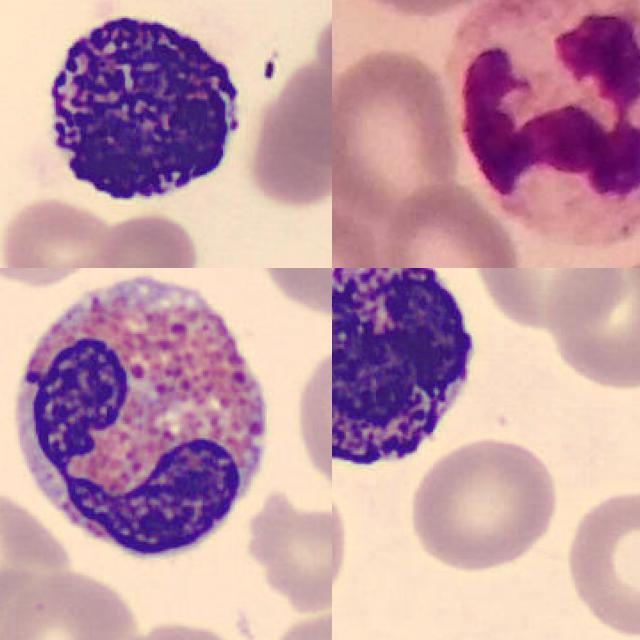Basophil: (18, 0, 255, 215), (332, 268, 486, 481)
Eosinophil: (0, 268, 288, 577)
Neutrophil: (452, 0, 640, 244)
RBC: (405, 432, 563, 575), (242, 46, 332, 211), (561, 485, 640, 640), (543, 268, 640, 393), (466, 268, 630, 335), (242, 489, 332, 610), (0, 565, 144, 640), (0, 480, 76, 614), (0, 194, 114, 268), (286, 335, 332, 510), (96, 210, 201, 268), (109, 616, 267, 640), (308, 0, 332, 104)
